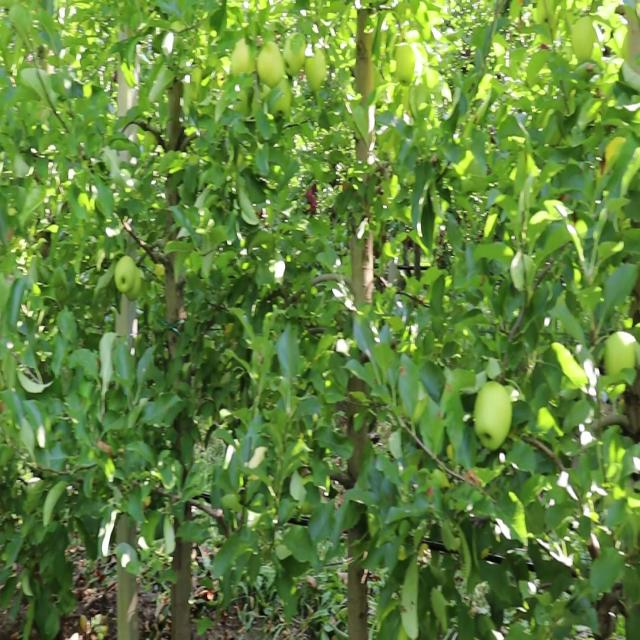apple: (473, 381, 512, 450), (605, 328, 639, 379), (572, 14, 596, 62), (257, 41, 283, 84), (283, 32, 307, 76), (394, 42, 416, 86), (305, 48, 326, 90), (115, 252, 134, 296), (232, 39, 254, 74), (270, 85, 290, 116), (126, 263, 141, 301)
